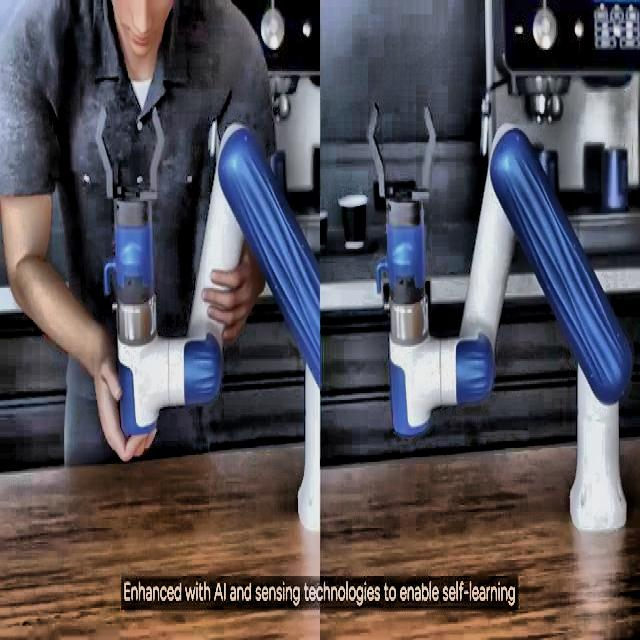robot: (371, 101, 633, 532), (97, 112, 321, 532)
